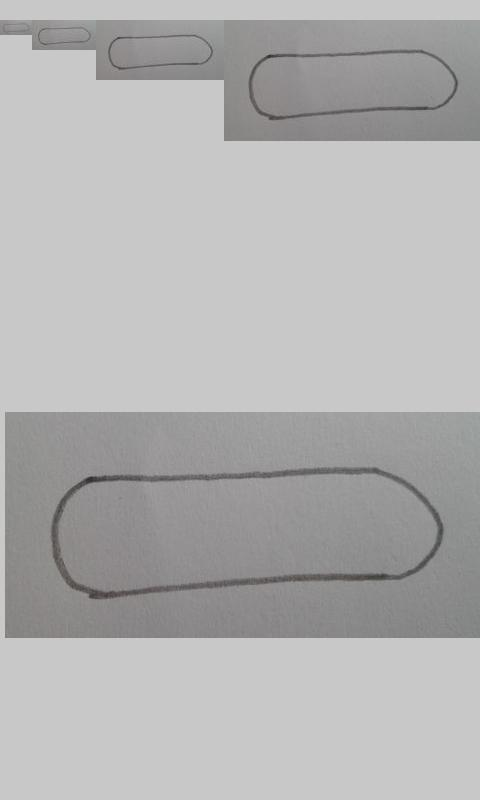chip: (51, 466, 445, 601), (247, 49, 459, 120), (108, 34, 213, 70), (38, 27, 92, 45), (2, 22, 30, 33)
